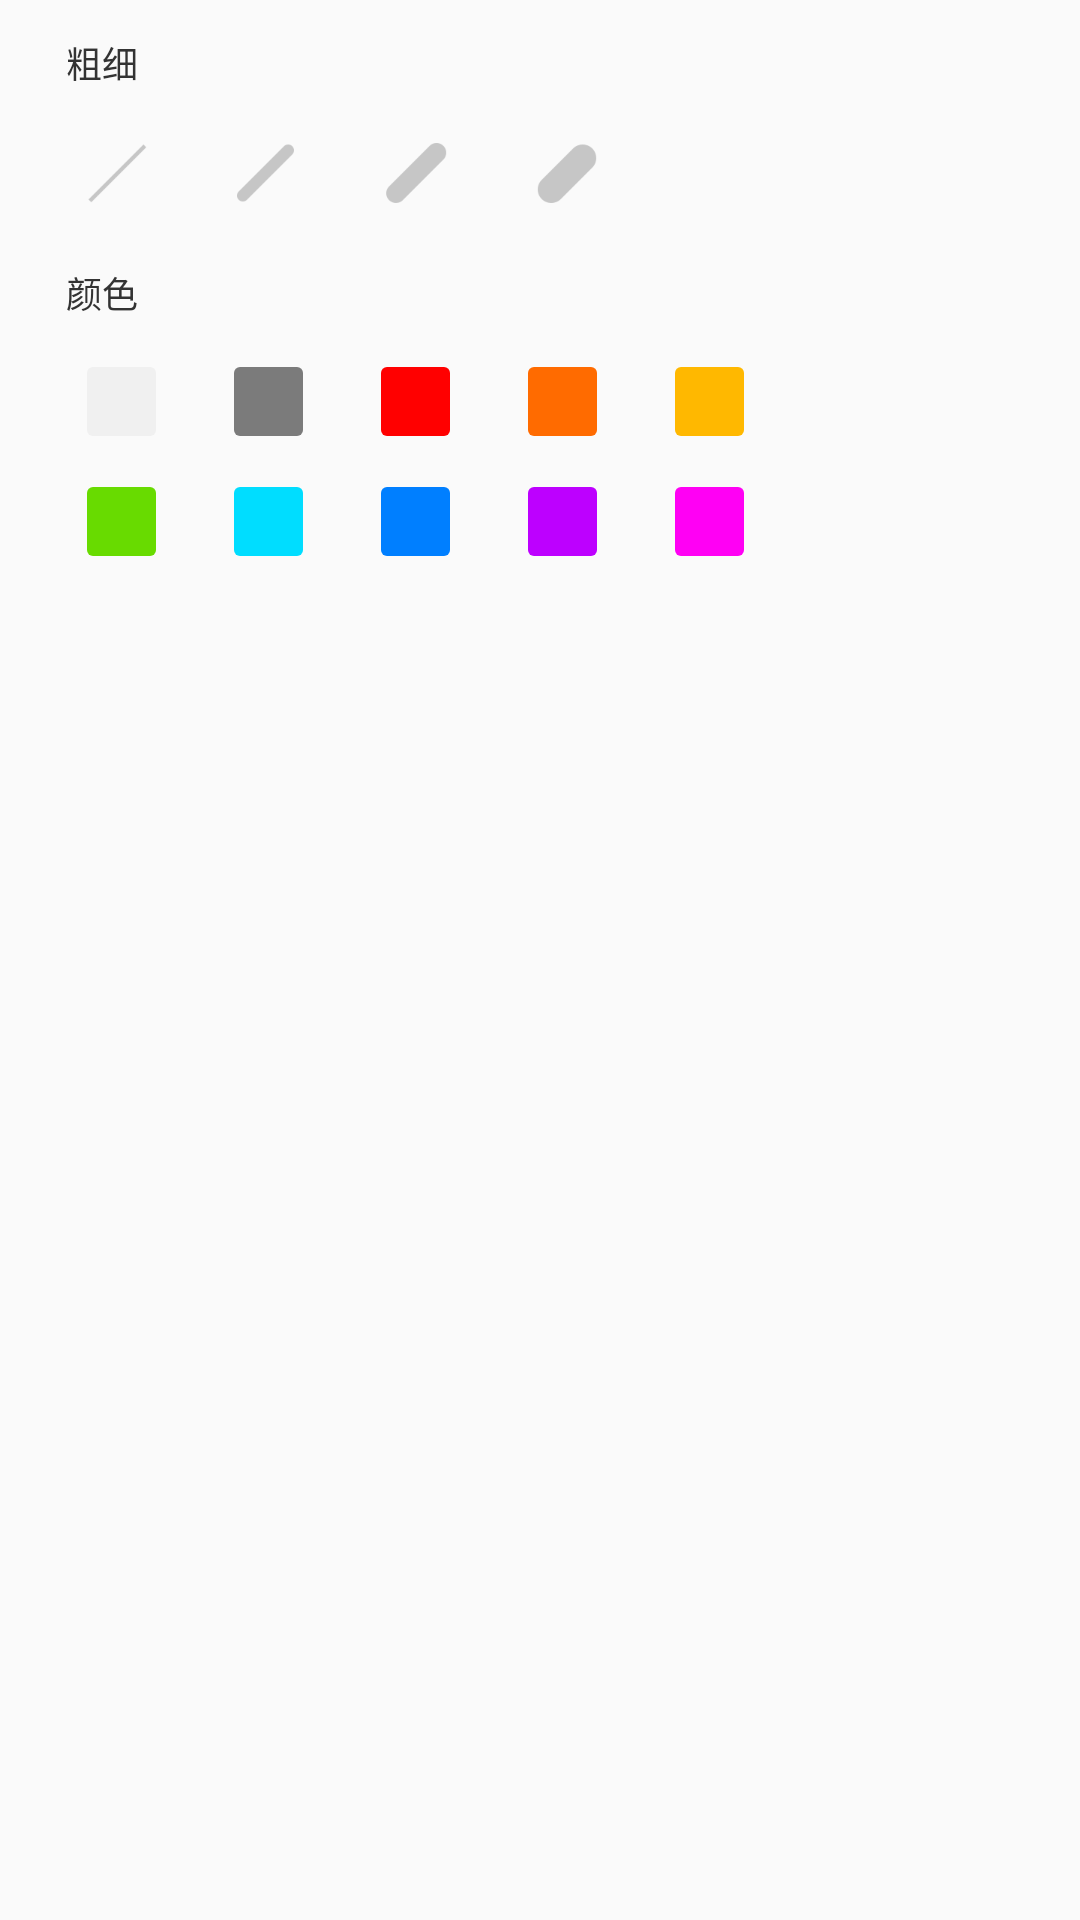

Named icons in this screenshot (1080 x 1920) and their bounding boxes, bbox=(x1, y1, x2, y2):
pen size: bbox=(386, 143, 446, 203), bbox=(237, 144, 294, 201), bbox=(538, 144, 596, 203), bbox=(89, 145, 146, 202)
